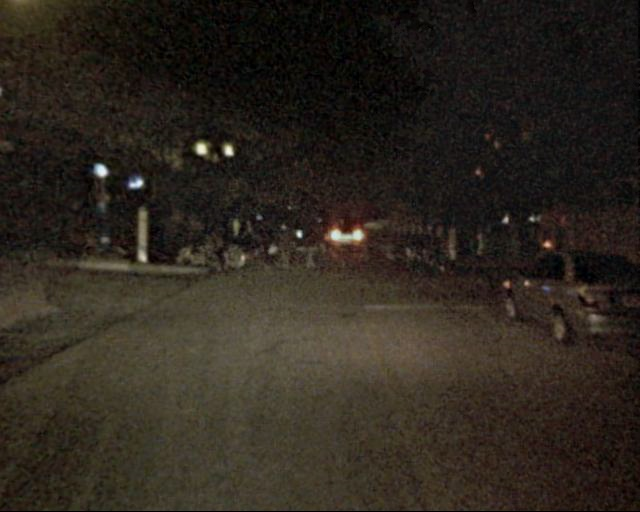person: (208, 220, 231, 278), (302, 223, 322, 274), (275, 222, 296, 269), (253, 220, 274, 266)
